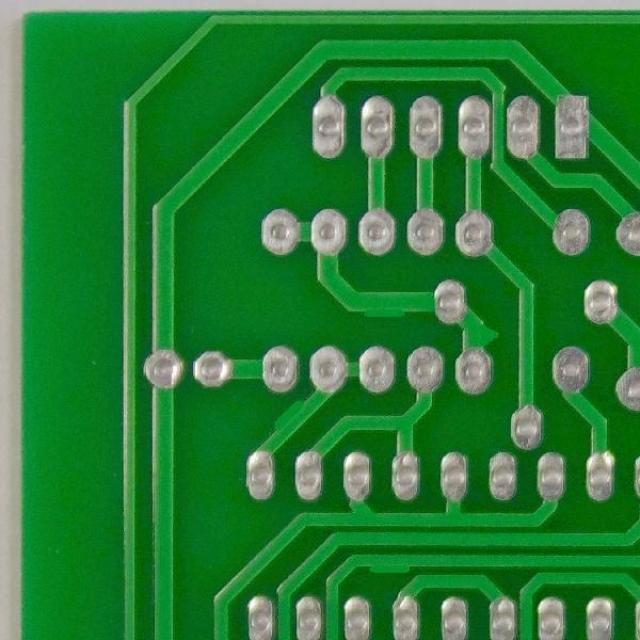spur: (353, 280, 416, 326), (262, 398, 315, 433), (461, 318, 504, 352), (366, 553, 416, 578)
